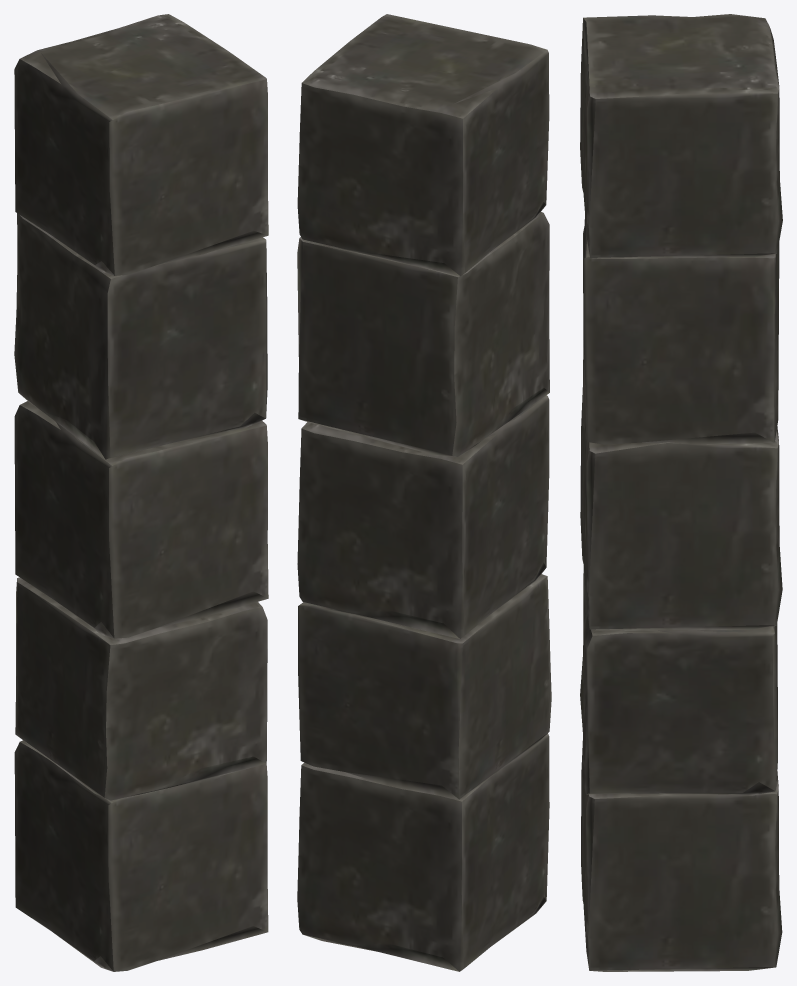
The picture shows the model from 3 angles, left to right: view 1: azimuth 30°, elevation 25°; view 2: azimuth 150°, elevation 25°; view 3: azimuth 270°, elevation 25°; orthographic projection. The views are drawn at different scales.
Visible parts, largest first — view 1: SM_Greathall_WallCap_10m_01_LOD0; view 2: SM_Greathall_WallCap_10m_01_LOD0; view 3: SM_Greathall_WallCap_10m_01_LOD0.
Boxes of the visible parts, x1=… form: SM_Greathall_WallCap_10m_01_LOD0: x1=14, y1=14, x2=268, y2=971; SM_Greathall_WallCap_10m_01_LOD0: x1=297, y1=14, x2=551, y2=971; SM_Greathall_WallCap_10m_01_LOD0: x1=580, y1=14, x2=782, y2=971.
Bounding box in the file's own units: 2.07 × 10.02 × 2.09.
1 material, 1 textured.
